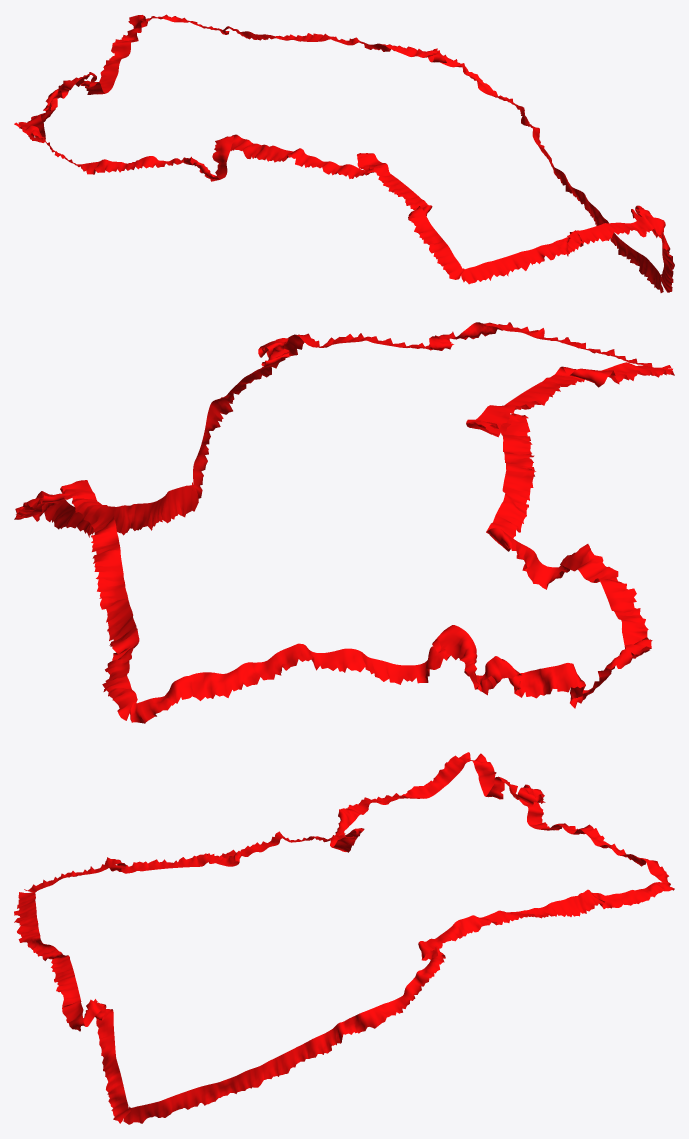
File: Bed_Bedroom_Edge_LOD.FBX
The picture shows the model from 3 angles, top to bottom: view 1: azimuth 30°, elevation 25°; view 2: azimuth 150°, elevation 25°; view 3: azimuth 270°, elevation 25°; orthographic projection. The views are drawn at different scales.
Parts seen in each view (by area): view 1: Bed_Bedroom_Cover4_Border_LOD0; view 2: Bed_Bedroom_Cover4_Border_LOD0; view 3: Bed_Bedroom_Cover4_Border_LOD0.
Part boxes in pixels (x1=…): Bed_Bedroom_Cover4_Border_LOD0: x1=14, y1=14, x2=674, y2=292; Bed_Bedroom_Cover4_Border_LOD0: x1=14, y1=322, x2=674, y2=723; Bed_Bedroom_Cover4_Border_LOD0: x1=14, y1=752, x2=674, y2=1124.
Size of what is drawn, in the model's own units: 1.29 by 0.4234 by 1.6.
